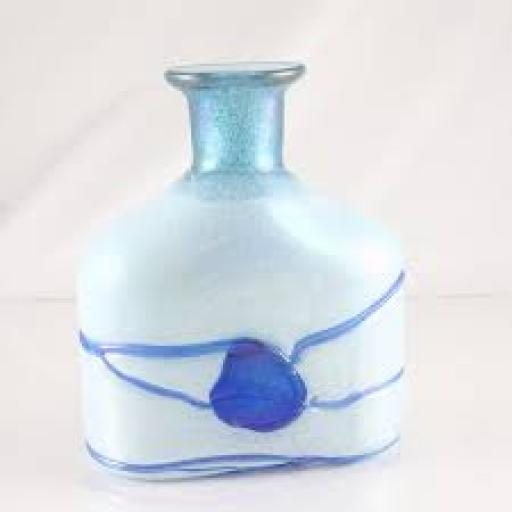blue-bottle: (80, 64, 400, 478)
